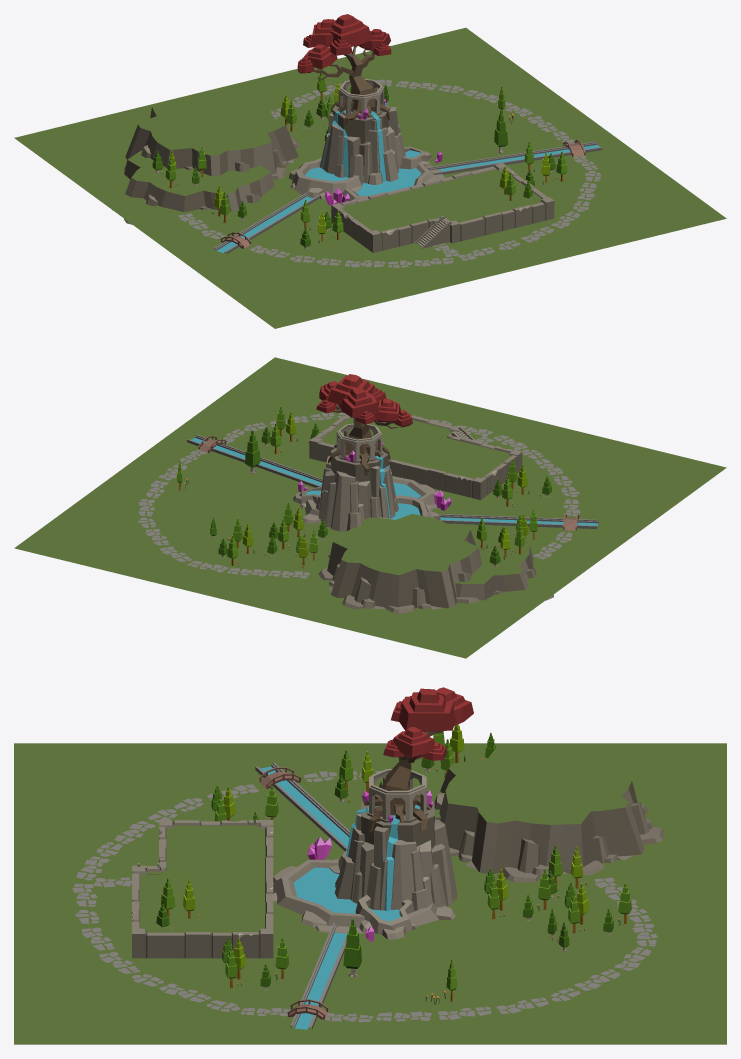
File: Environment.gltf
3 renders of one model, top to bottom at view 1: azimuth 30°, elevation 25°; view 2: azimuth 150°, elevation 25°; view 3: azimuth 270°, elevation 25°, orthographic. The views are drawn at different scales.
Parts seen in each view (by area): view 1: MeshBaker__0__mesh_mesh; view 2: MeshBaker__0__mesh_mesh; view 3: MeshBaker__0__mesh_mesh.
Boxes of the visible parts, box(x1,y1,x2,y2) form: MeshBaker__0__mesh_mesh: box(14, 14, 726, 328); MeshBaker__0__mesh_mesh: box(14, 357, 726, 658); MeshBaker__0__mesh_mesh: box(14, 687, 726, 1044).
Size of the model in its own units: 100 by 34.73 by 100.
Materials: 1 (1 with a texture image).
